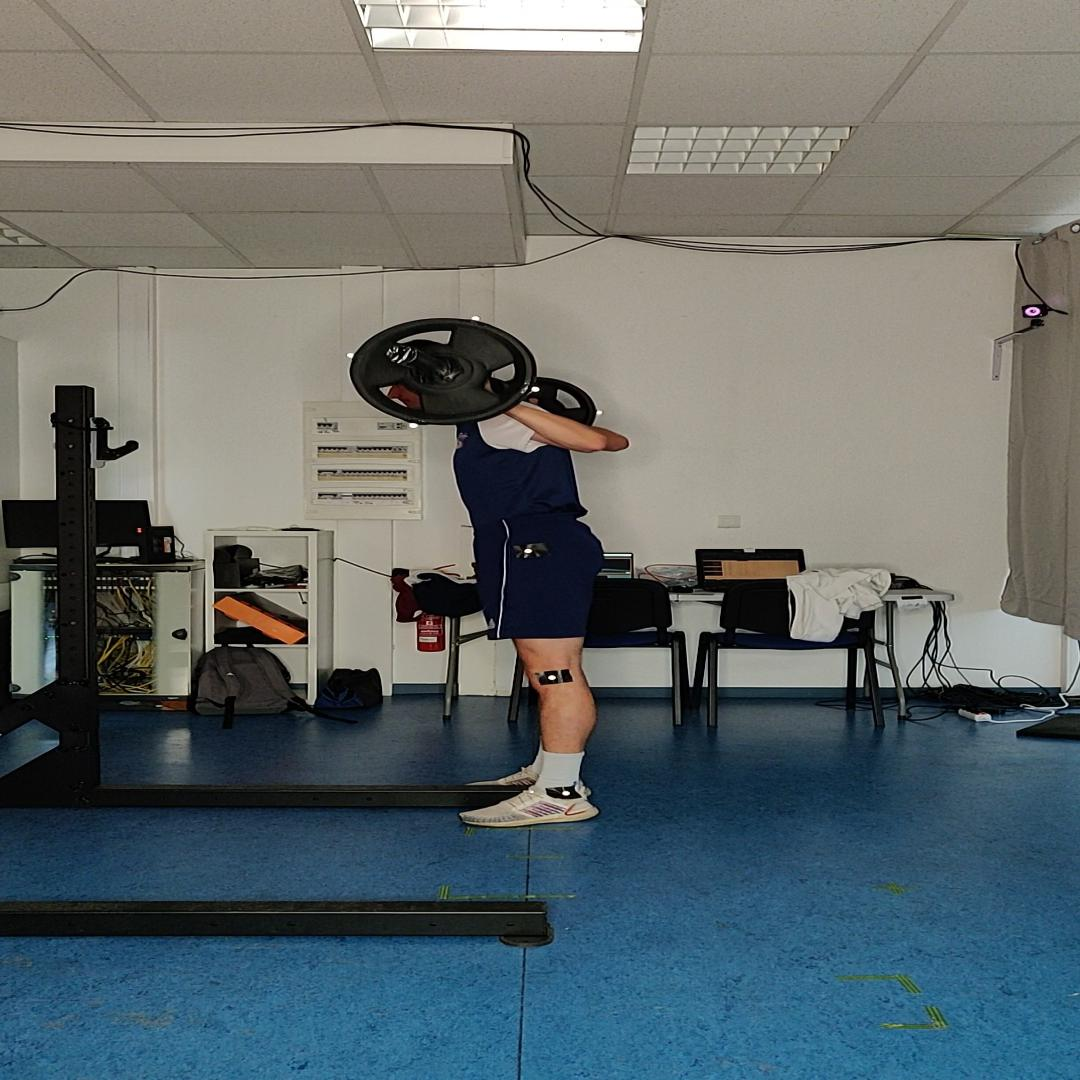Bar: (386, 344, 419, 364)
Barbell: (350, 318, 538, 425)
